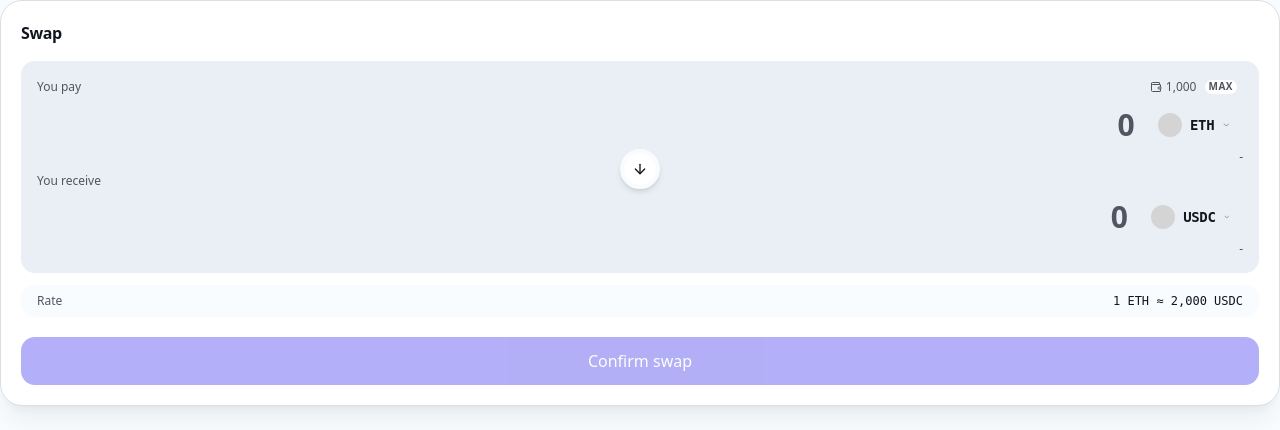
<SwapForm /> › renders ETH → USDC by default and computes output as user types
This screenshot has width=1280, height=430.
Expected: the button with aria-label "You pay: ETH" is shown, [1146, 105, 1243, 145]
Expected: the button with aria-label "You receive: USDC" is shown, [1139, 197, 1243, 237]
Type "1.5" into the field named "You pay amount" at [586, 125], box [37, 107, 1134, 143]
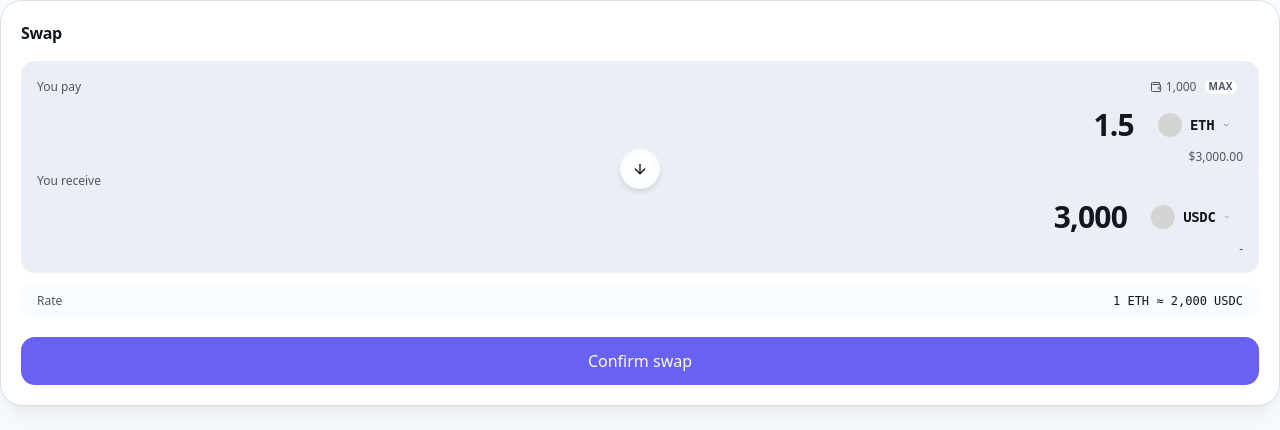
Expected: the field named "You receive amount" holds "3,000", [37, 199, 1127, 235]
